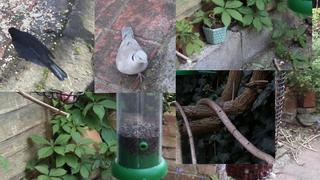blackbird: (8, 27, 68, 81)
collared dove: (115, 27, 149, 84)
